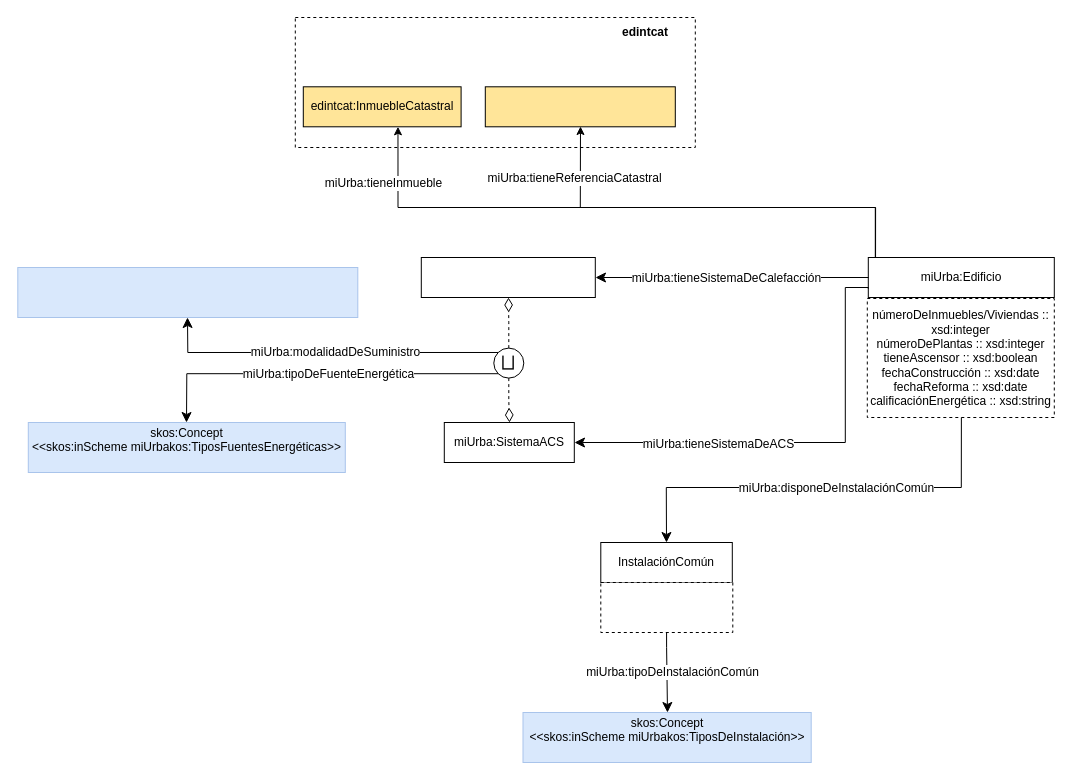
Image size: 1072x780. Some labels were removed from this diagram. The shapes that lost their labels are listed below. From the top down, each one's box as (x1, y1, x2, y2) in pixels, then its label:
(484, 86, 675, 127): edintcat:ReferenciaCadastral
(17, 266, 358, 318): skos:Concept <<skos:inScheme miUrbakos:ModalidadSuministroTérmico>>
(420, 256, 595, 298): miUrba:SistemaDeCalefacción
(600, 582, 733, 632): nombreInstalación :: xsd:string
